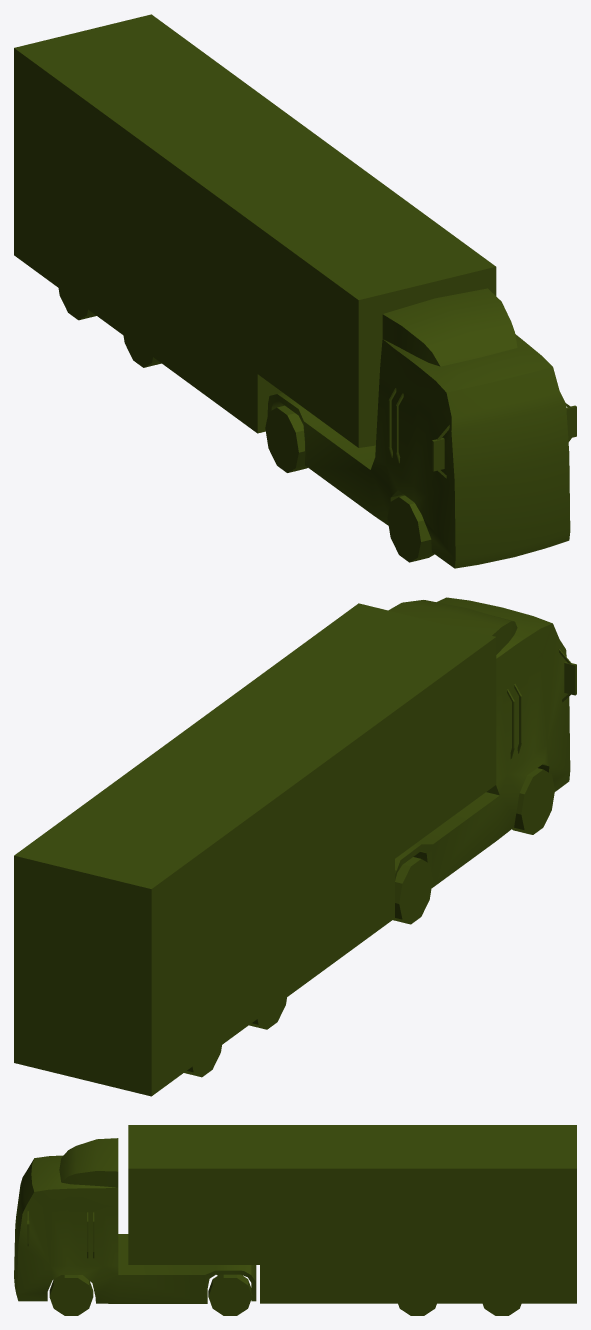
The model's file is Vehicle05D_M.fbx.
3 renders of one model, top to bottom at view 1: azimuth 30°, elevation 25°; view 2: azimuth 150°, elevation 25°; view 3: azimuth 270°, elevation 25°, orthographic. The views are drawn at different scales.
Parts seen in each view (by area): view 1: Vehicle05D; view 2: Vehicle05D; view 3: Vehicle05D.
Part boxes in pixels (left/top/right/bottom): Vehicle05D: left=14, top=14, right=576, bottom=568; Vehicle05D: left=14, top=597, right=576, bottom=1096; Vehicle05D: left=14, top=1125, right=576, bottom=1315.
Size of the model in its own units: 1.81 by 2.73 by 9.43.
